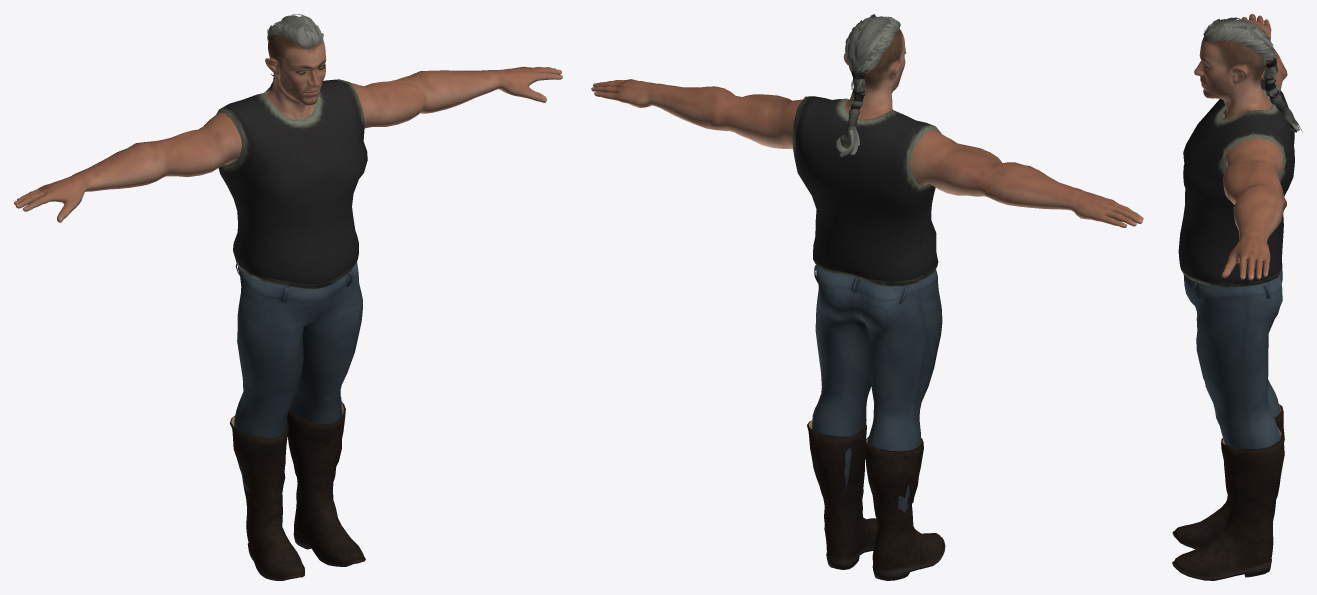
The model's file is Personaje2.obj.
The picture shows the model from 3 angles, left to right: view 1: azimuth 30°, elevation 25°; view 2: azimuth 150°, elevation 25°; view 3: azimuth 270°, elevation 25°; orthographic projection.
Parts seen in each view (by area): view 1: Tops, Body, Bottoms, Shoes, Hair; view 2: Tops, Bottoms, Body, Shoes, Hair; view 3: Bottoms, Tops, Body, Shoes, Hair.
Boxes of the visible parts, x1,y1,x2,y2 form: Tops: (216,79,367,288); Body: (14,35,562,222); Bottoms: (234,262,362,499); Shoes: (230,402,365,580); Hair: (264,14,323,92); Tops: (792,96,941,286); Bottoms: (811,265,942,512); Body: (591,29,1143,227); Shoes: (807,420,945,580); Hair: (836,14,900,156); Bottoms: (1183,268,1282,448); Tops: (1178,78,1294,287); Body: (1194,14,1287,280); Shoes: (1172,404,1284,580); Hair: (1203,17,1302,132).
Size of the model in its own units: 193 by 182 by 40.08.
Materials: 1 (1 with a texture image).
